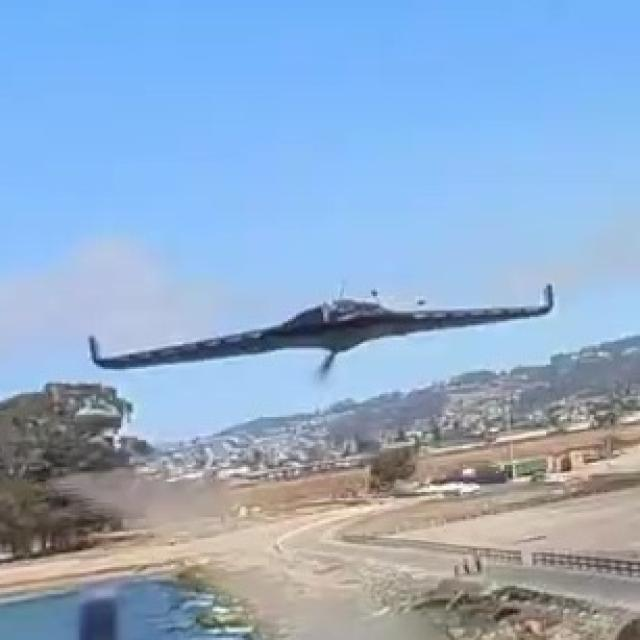iha: (64, 311, 579, 333)
